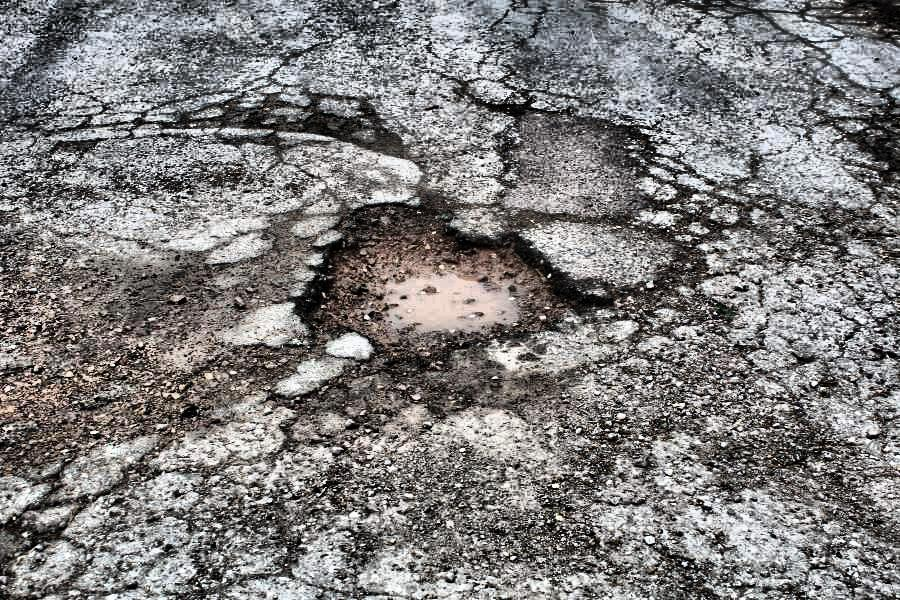pothole: (293, 203, 584, 367)
